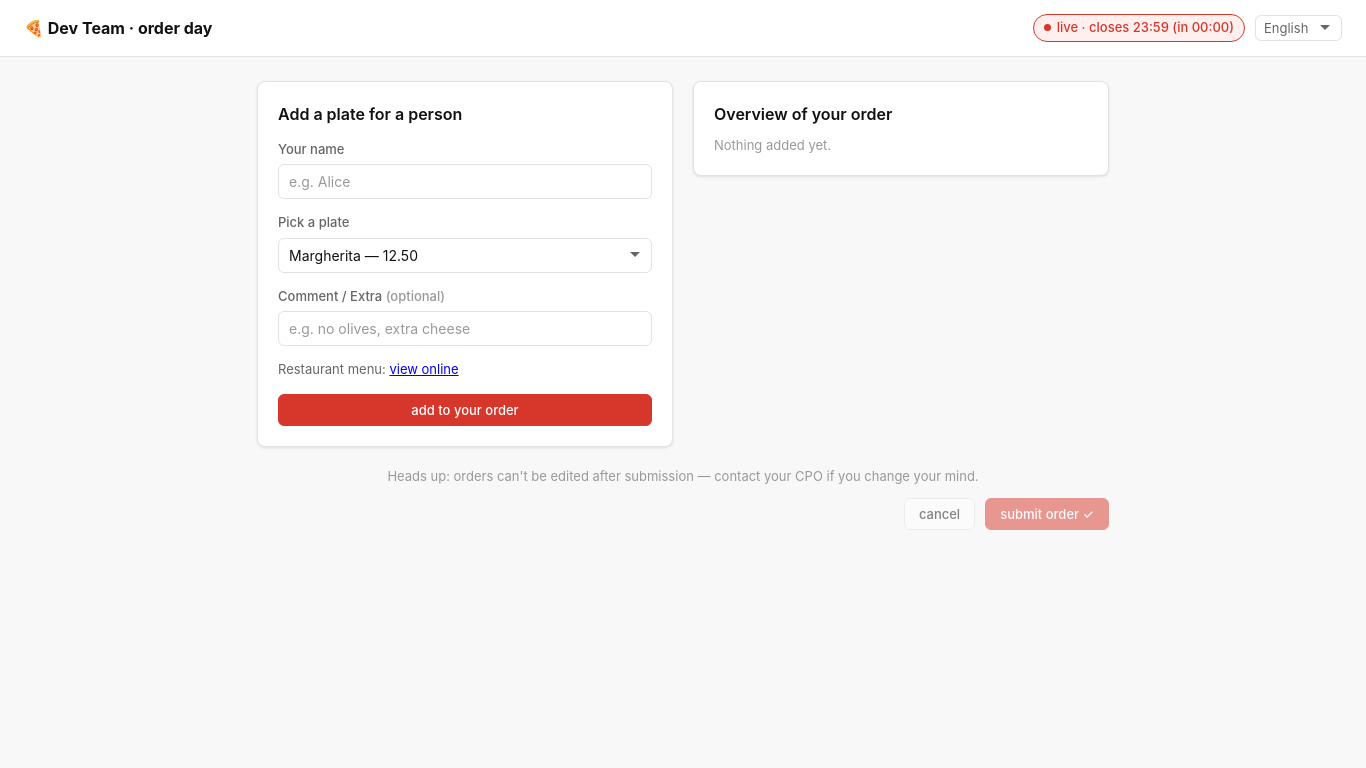
Scenario: TeamOrderPage › cart behavior › adds a row to the cart when name and pizza are provided
The image size is (1366, 768).
Type "Alice" into the field labelled "Your name" at (465, 182), box [278,164,652,199]
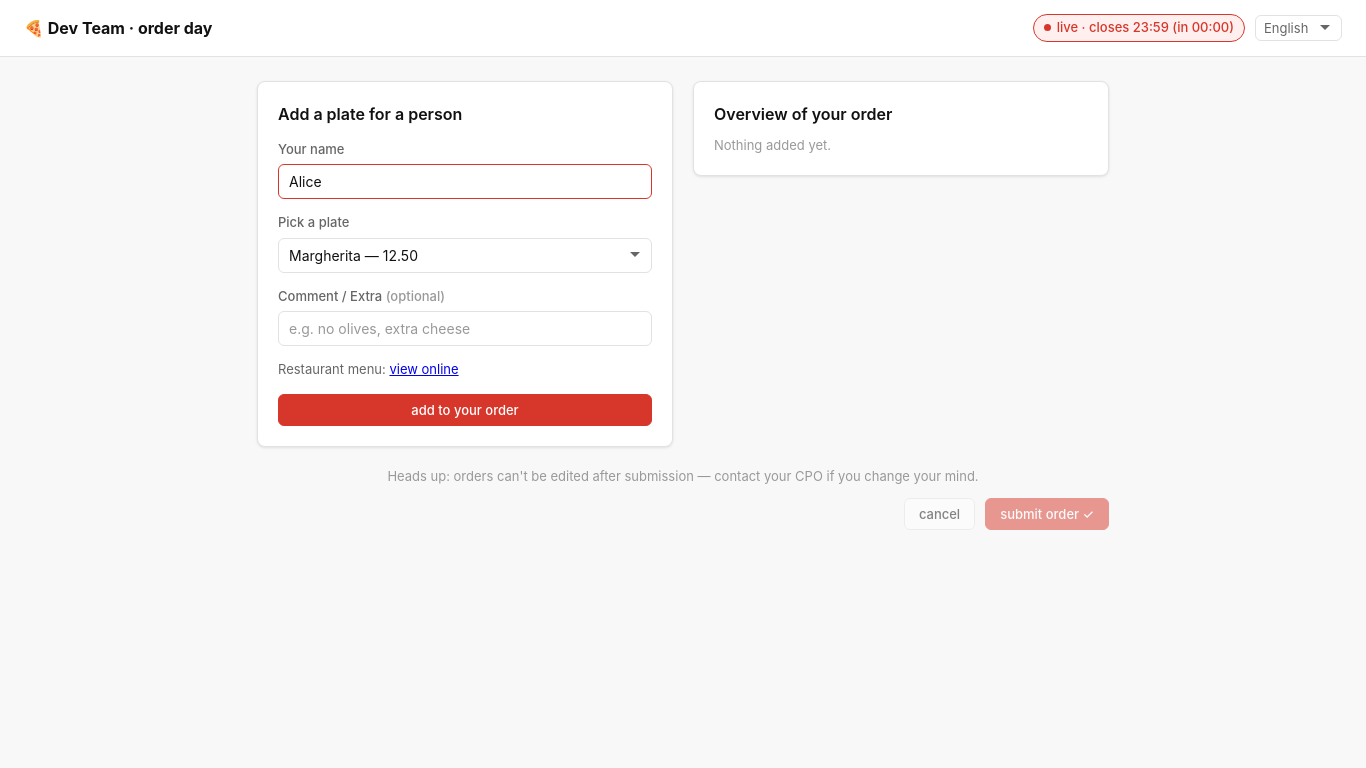
Click the button "add to your order" at (465, 410), box [278,394,652,426]
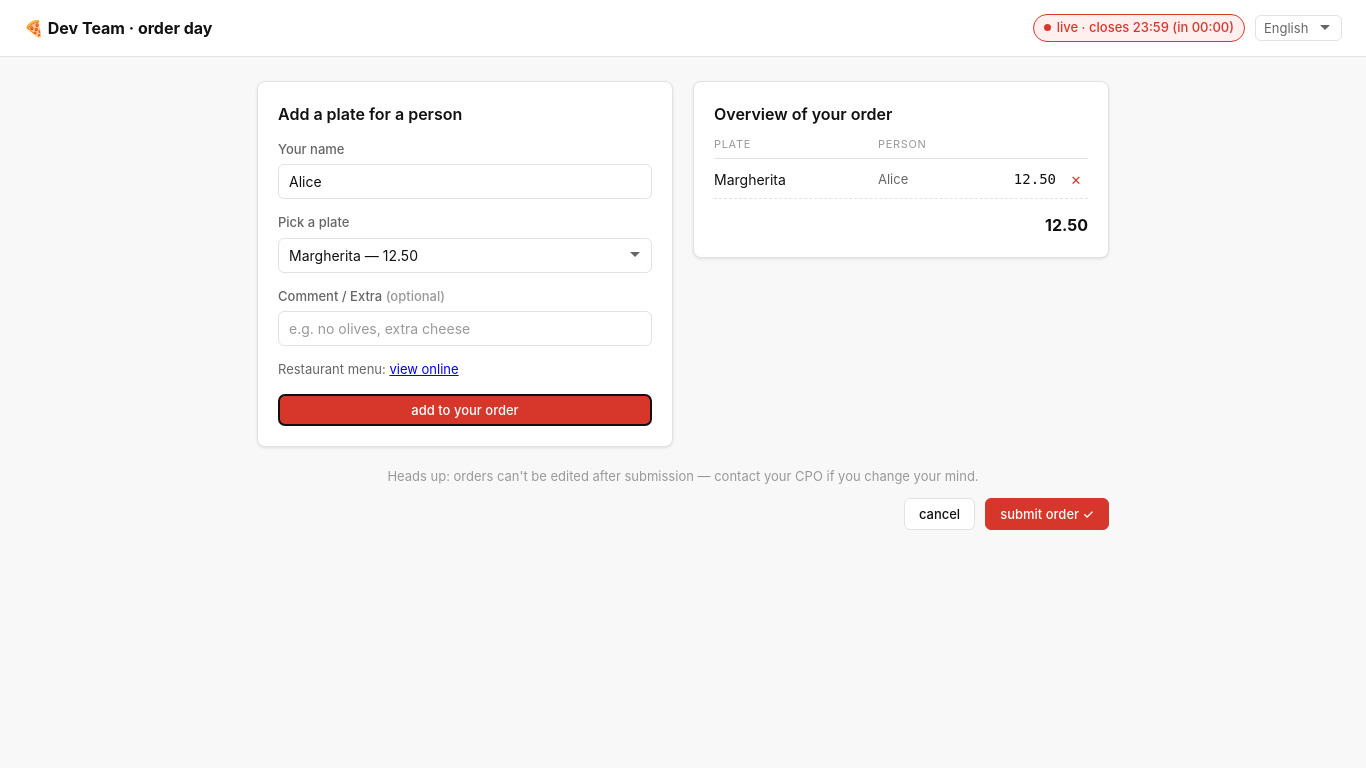
Expected: the button titled "Remove" is shown, [1064,170,1088,188]
Expected: the text "Alice" is shown, [878,171,908,187]
